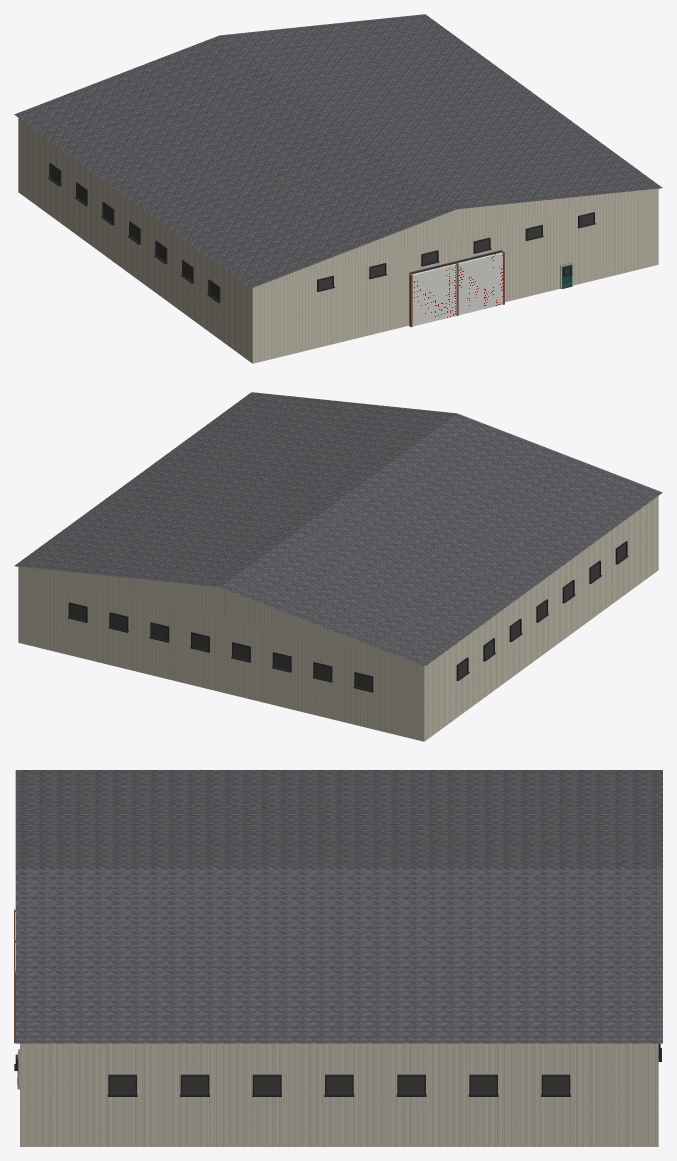
The model's file is cyxd_north_annex.gltf.
The picture shows the model from 3 angles, top to bottom: view 1: azimuth 30°, elevation 25°; view 2: azimuth 150°, elevation 25°; view 3: azimuth 270°, elevation 25°; orthographic projection. The views are drawn at different scales.
Visible parts, largest first — view 1: cyxd_north_annex; view 2: cyxd_north_annex; view 3: cyxd_north_annex.
Boxes of the visible parts, x1=… form: cyxd_north_annex: x1=14, y1=14, x2=662, y2=363; cyxd_north_annex: x1=14, y1=392, x2=662, y2=741; cyxd_north_annex: x1=14, y1=770, x2=662, y2=1146.
Bounding box in the file's own units: 44.6 × 11 × 44.72.
